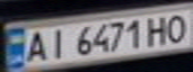1: (124, 16, 148, 48)
4: (90, 20, 112, 54)
6: (72, 22, 96, 56)
7: (106, 19, 127, 52)
A: (21, 28, 51, 63)
H: (142, 12, 172, 46)
I: (42, 26, 69, 60)
O: (163, 11, 190, 44)
